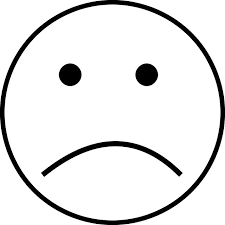triste: (1, 1, 220, 215), (46, 49, 190, 185)
